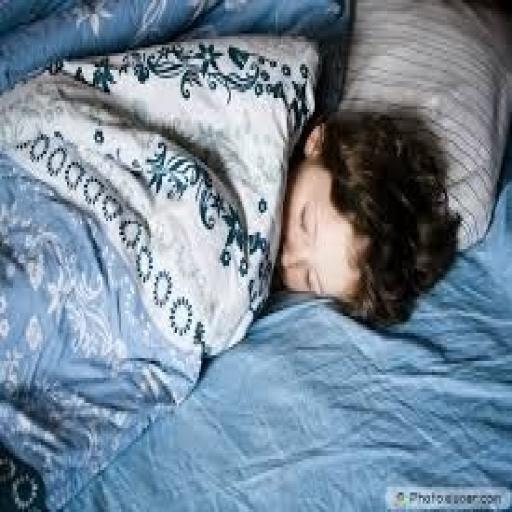sleeping: (0, 28, 462, 509)
